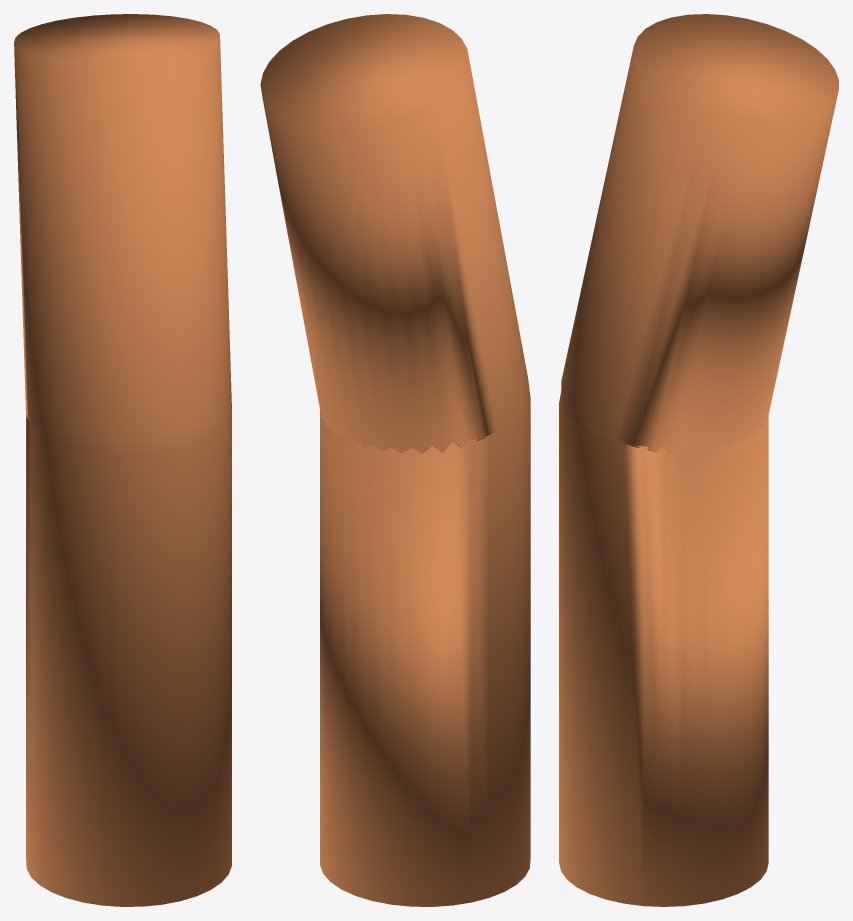
The model's file is bras.fbx.
3 views of the same model, side by side, from view 1: azimuth 30°, elevation 25°; view 2: azimuth 150°, elevation 25°; view 3: azimuth 270°, elevation 25° (orthographic). The views are drawn at different scales.
Visible parts, largest first — view 1: Cylinder; view 2: Cylinder; view 3: Cylinder.
Part boxes in pixels (bbox=[...]): Cylinder: bbox=[14, 14, 231, 906]; Cylinder: bbox=[260, 14, 530, 906]; Cylinder: bbox=[559, 14, 838, 906].
Bounding box in the file's own units: 2.26 × 8.69 × 2.67.
